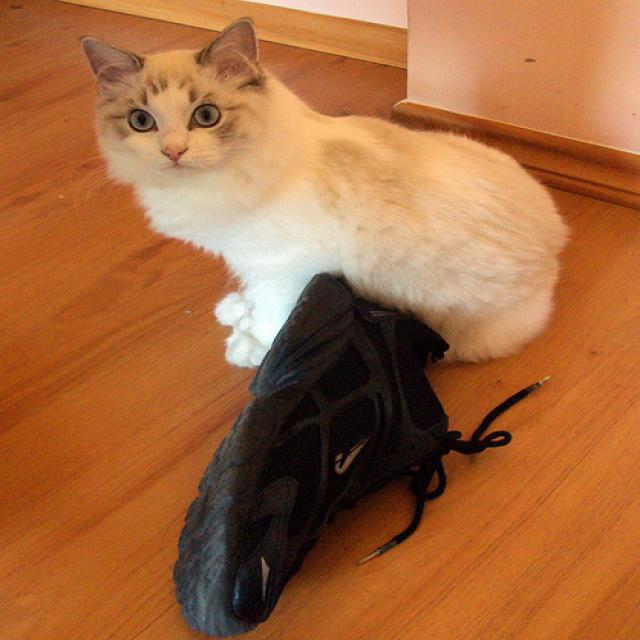cat: (78, 14, 256, 179)
